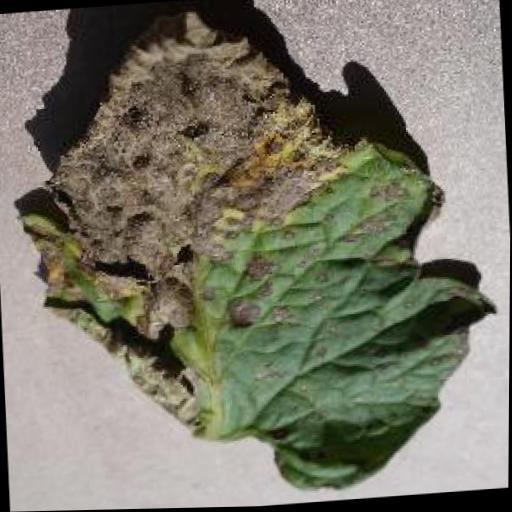Early Blight: (7, 0, 503, 512)
